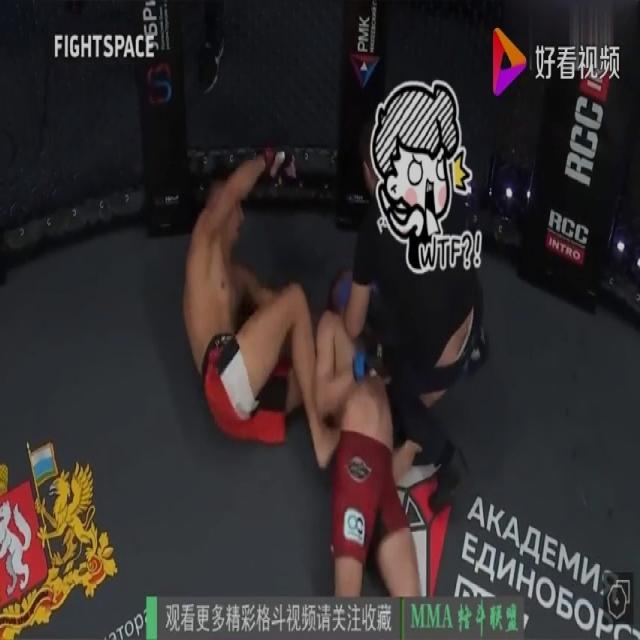fight: (163, 63, 497, 593)
